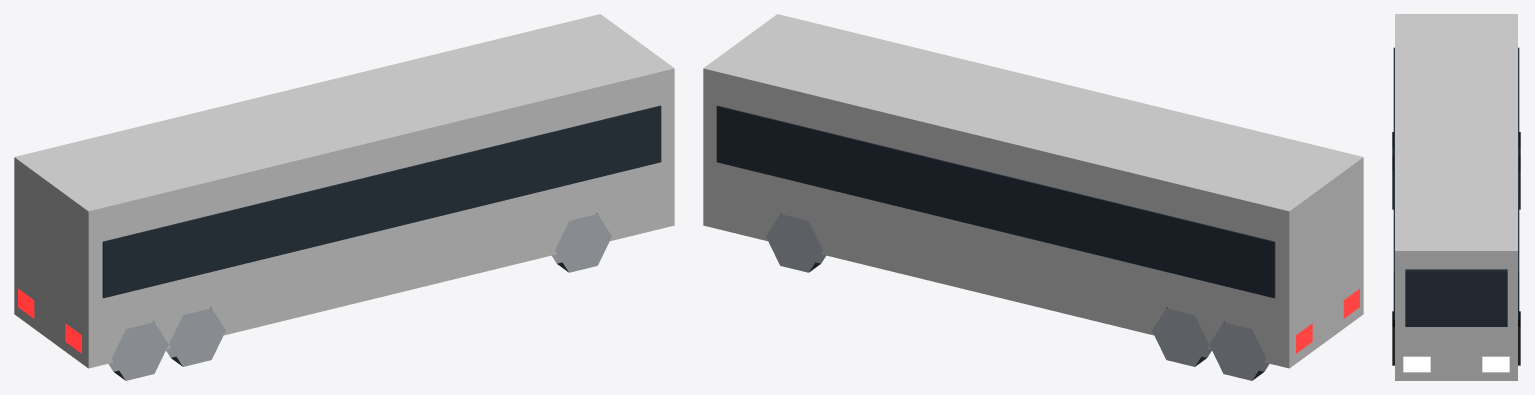
File: bus_coach.glb
3 renders of one model, left to right at view 1: azimuth 30°, elevation 25°; view 2: azimuth 150°, elevation 25°; view 3: azimuth 270°, elevation 25°, orthographic. The views are drawn at different scales.
Visible parts, largest first — view 1: bus_coach; view 2: bus_coach; view 3: bus_coach.
Part boxes in pixels (<box>): bus_coach: <box>14,14,674,380</box>; bus_coach: <box>703,14,1363,380</box>; bus_coach: <box>1392,14,1520,380</box>.
Bounding box in the file's own units: 0.828 × 0.2366 × 0.188.
